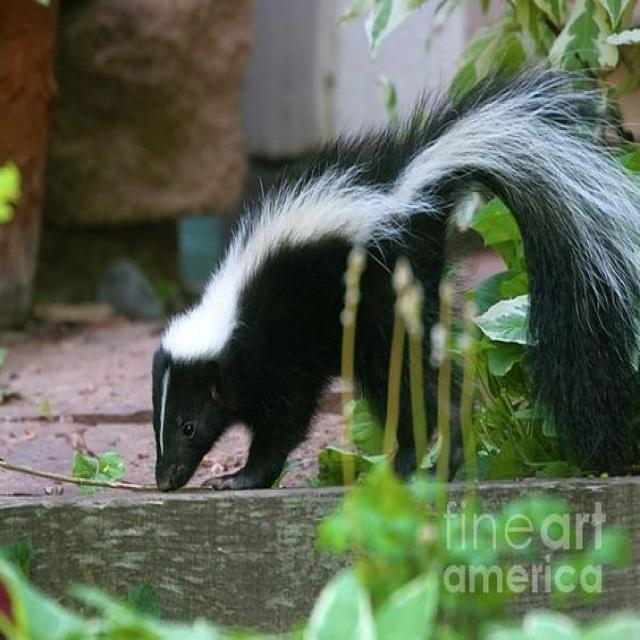Skunk: (145, 40, 640, 531)
